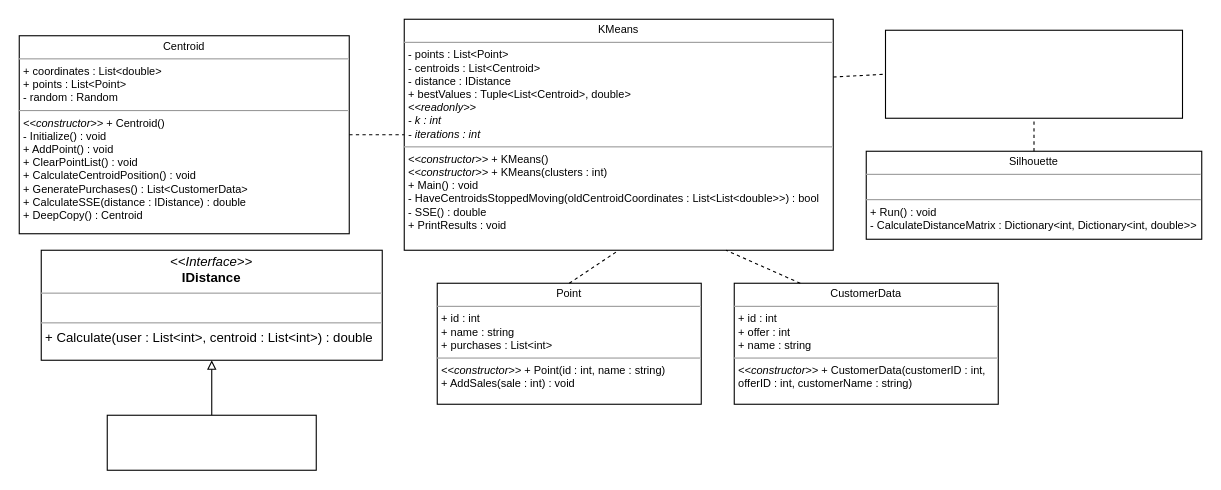
The diagram is 1221 pixels wide and 490 high, and some of its shapes have lost their labels. Each missing label, with the centre of its shape:
Euclidean: the point at 211,442
Parser + Parse(delimiter: char, path: string) : List<Point>: the point at 1033,73
